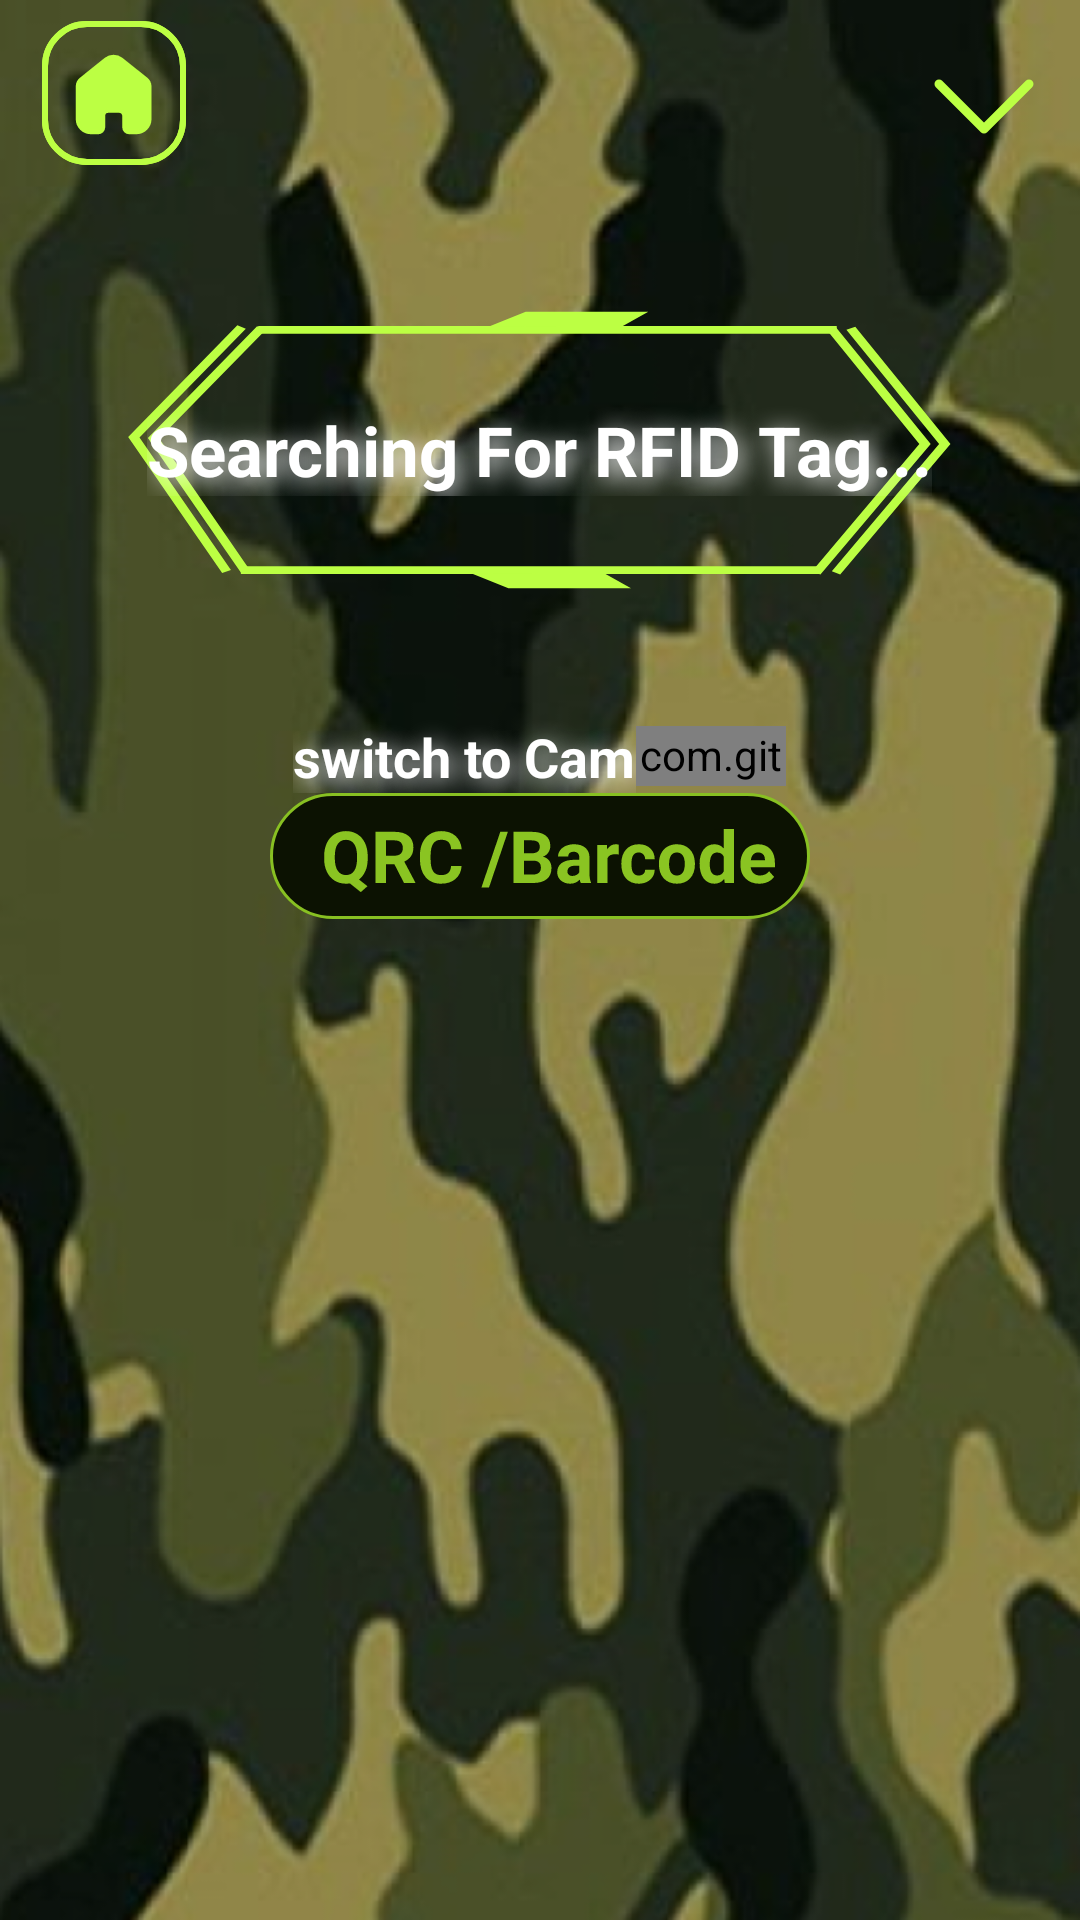

Point at icon controls on the screen. Image size 1080 × 1920, points as (x,y).
down arrow: (1007,106)
home: (114,94)
